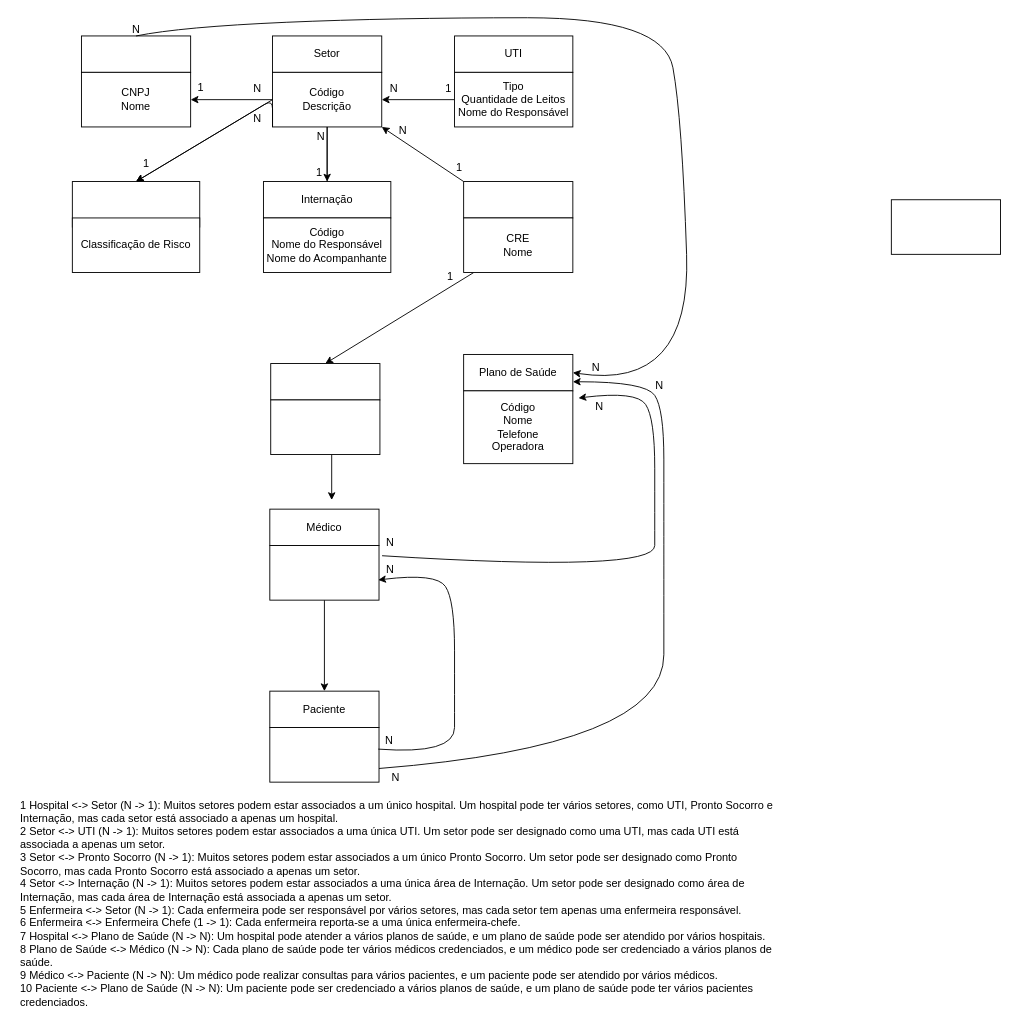
This 1016x1025 diagram has some shape labels left out. Here are the shapes that lost their labels. From the top down, the centre of each, then its label:
At (x=136, y=53): "Hospital".
At (x=135, y=204): "Pronto Socorro".
At (x=518, y=199): "Enfermeira".
At (x=325, y=381): "Enf. Chefe".
At (x=325, y=427): "Nome".
At (x=324, y=572): "CRM Nome Telefone".
At (x=324, y=754): "CPF Nome Cod. Credenciado Telefone".
